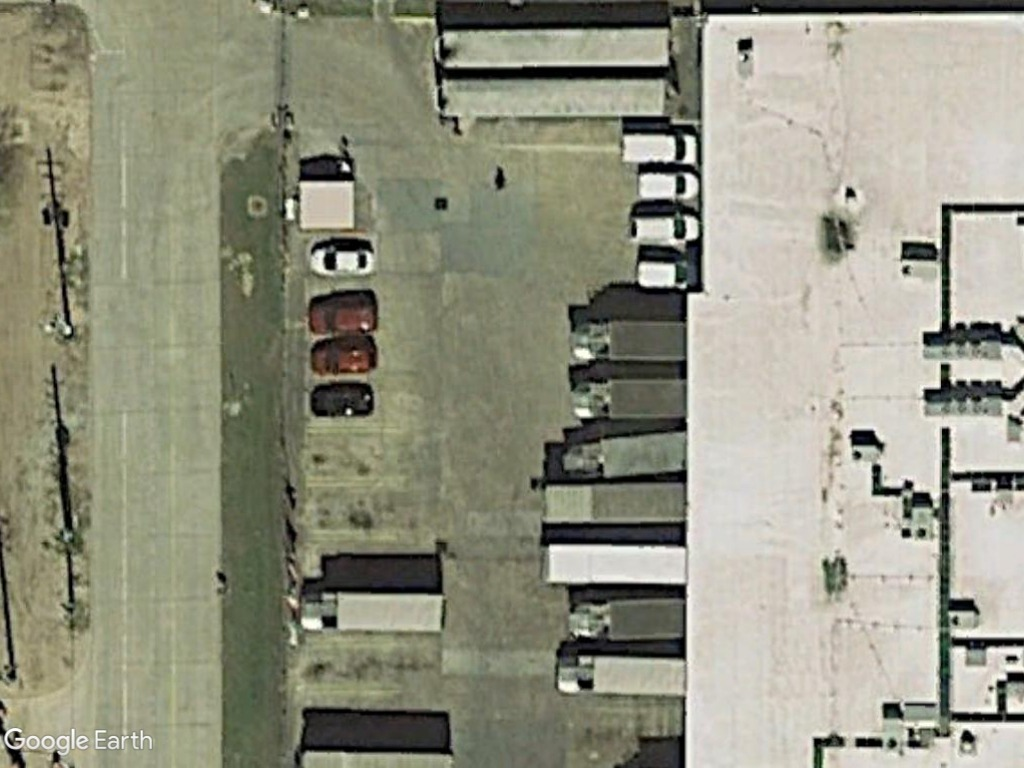car: (624, 208, 703, 248), (305, 337, 381, 377), (303, 299, 379, 337), (309, 242, 379, 280)
truck: (299, 586, 449, 637), (556, 650, 687, 702), (568, 592, 688, 644)
van: (618, 130, 702, 171), (634, 167, 704, 202)
